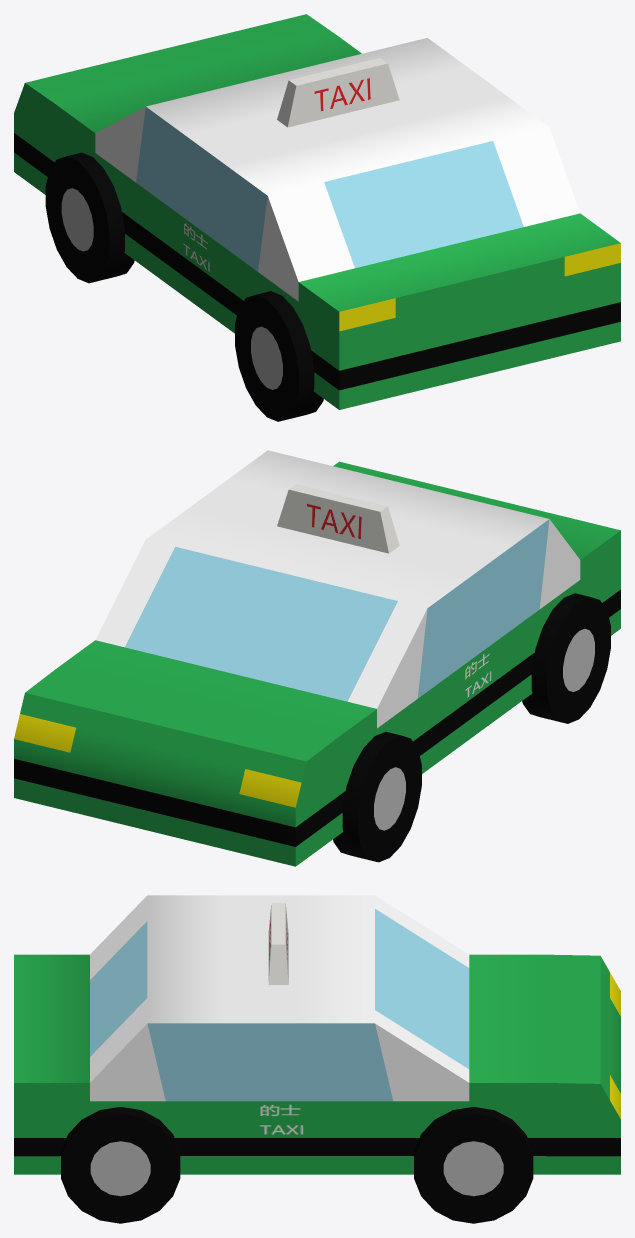
File: 出租車綠.fbx
3 views of the same model, one above another, from view 1: azimuth 30°, elevation 25°; view 2: azimuth 150°, elevation 25°; view 3: azimuth 270°, elevation 25° (orthographic). The views are drawn at different scales.
Parts seen in each view (by area): view 1: taxi(green), 的士標示牌001; view 2: taxi(green), 的士標示牌001; view 3: taxi(green), 的士標示牌001.
Boxes of the visible parts, left/top/right/bottom form: taxi(green): left=14, top=14, right=620, bottom=421; 的士標示牌001: left=277, top=58, right=399, bottom=127; taxi(green): left=14, top=450, right=620, bottom=866; 的士標示牌001: left=277, top=484, right=399, bottom=553; taxi(green): left=14, top=895, right=620, bottom=1223; 的士標示牌001: left=268, top=903, right=288, bottom=984.
Bounding box in the file's own units: 16.62 × 12.48 × 30.
Materials: 2 (2 with a texture image).
